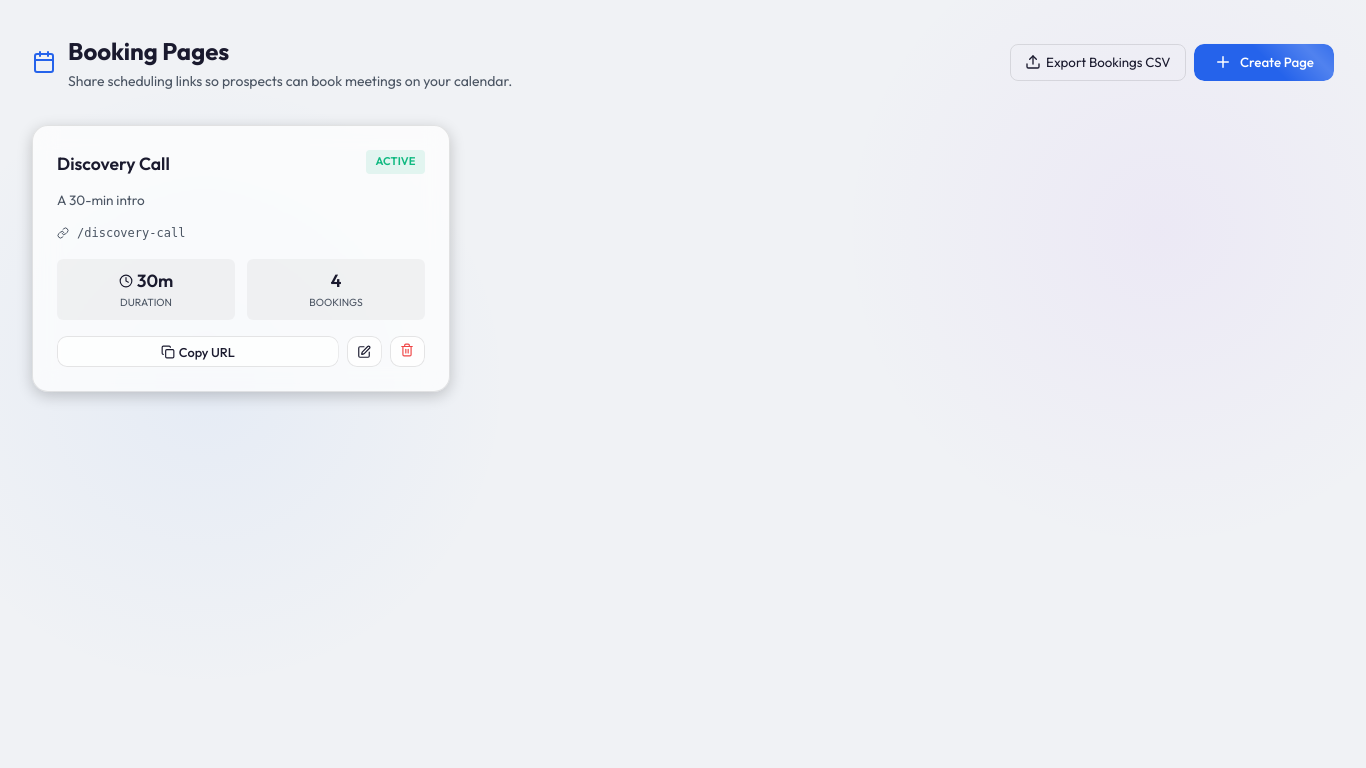
it: <BookingPages /> — #810 embed snippet UI › shows the Embed Widget Code section when a page is opened in the editor
The width and height of the screenshot is (1366, 768).
What coordinates should you click on to do the following:
click the heading "Discovery Call"
I would click on:
 (113, 163)
Its box is [57,152,170,175].
(page scrolled)
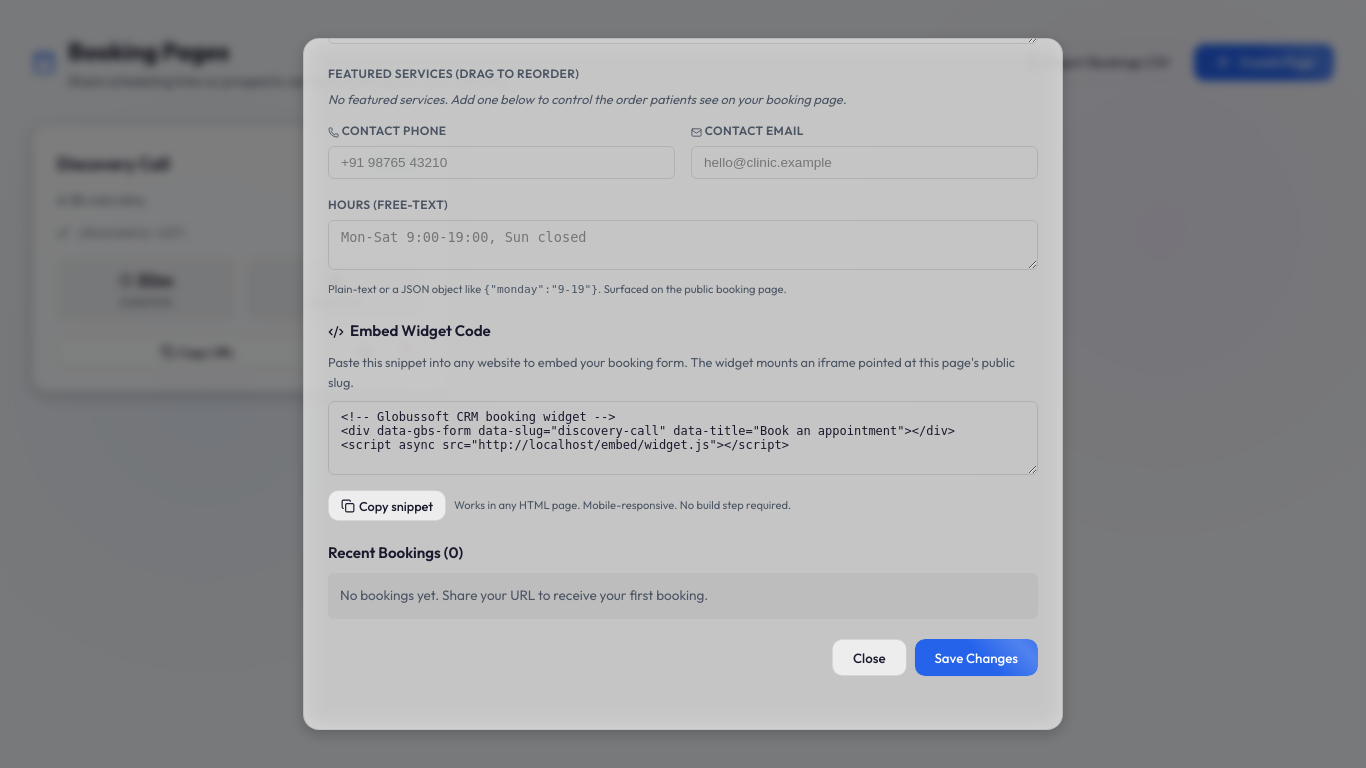
expect the heading "Embed Widget Code" is shown: met, box [328,321,491,340]
expect the text box with test id "embed-snippet" is shown: met, box [328,401,1038,475]
